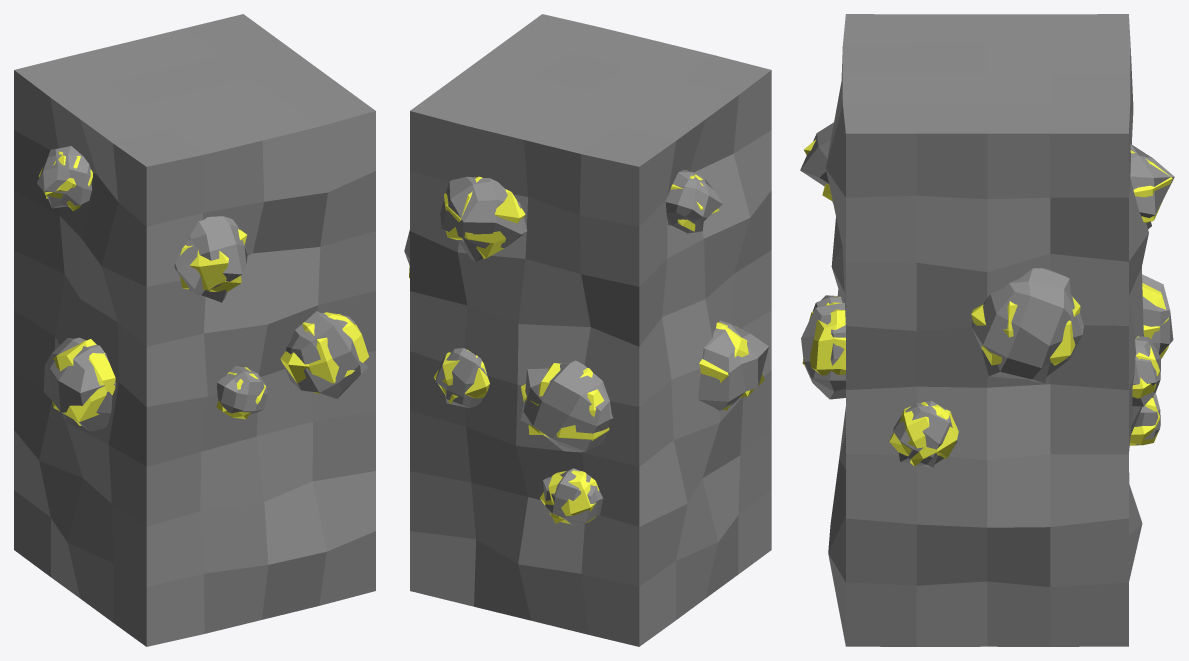
File: Cave Wall Ore Block.fbx
3 renders of one model, left to right at view 1: azimuth 30°, elevation 25°; view 2: azimuth 150°, elevation 25°; view 3: azimuth 270°, elevation 25°, orthographic. The views are drawn at different scales.
Parts seen in each view (by area): view 1: Cube.002; view 2: Cube.002; view 3: Cube.002.
Part boxes in pixels (bbox=[...]): Cube.002: bbox=[14, 14, 375, 646]; Cube.002: bbox=[404, 14, 771, 646]; Cube.002: bbox=[800, 14, 1174, 646].
Size of the model in its own units: 135 by 200 by 132.
